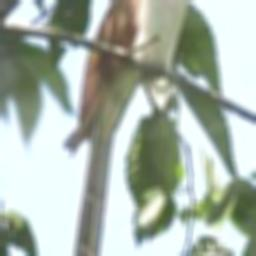Cuckoo: (63, 0, 215, 256)
